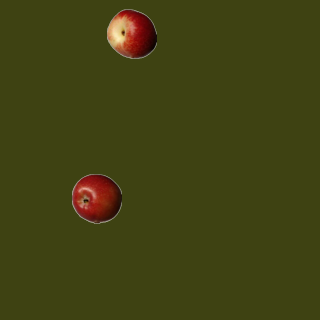Apple Braeburn: (71, 173, 121, 223)
Nectarine: (106, 8, 156, 58)
